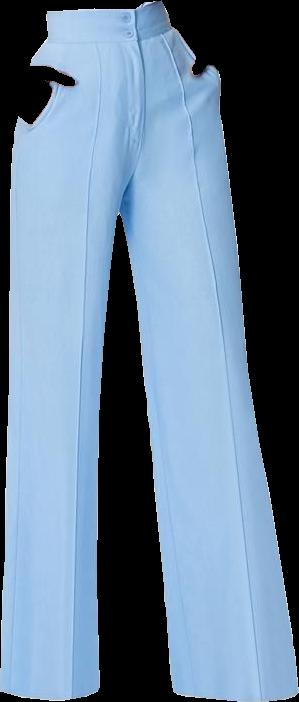Hemline: (0, 682, 104, 701), (170, 686, 298, 701)
Pantleg: (119, 2, 297, 701), (0, 8, 146, 699)
Waistline: (43, 24, 174, 48), (45, 0, 161, 18)
